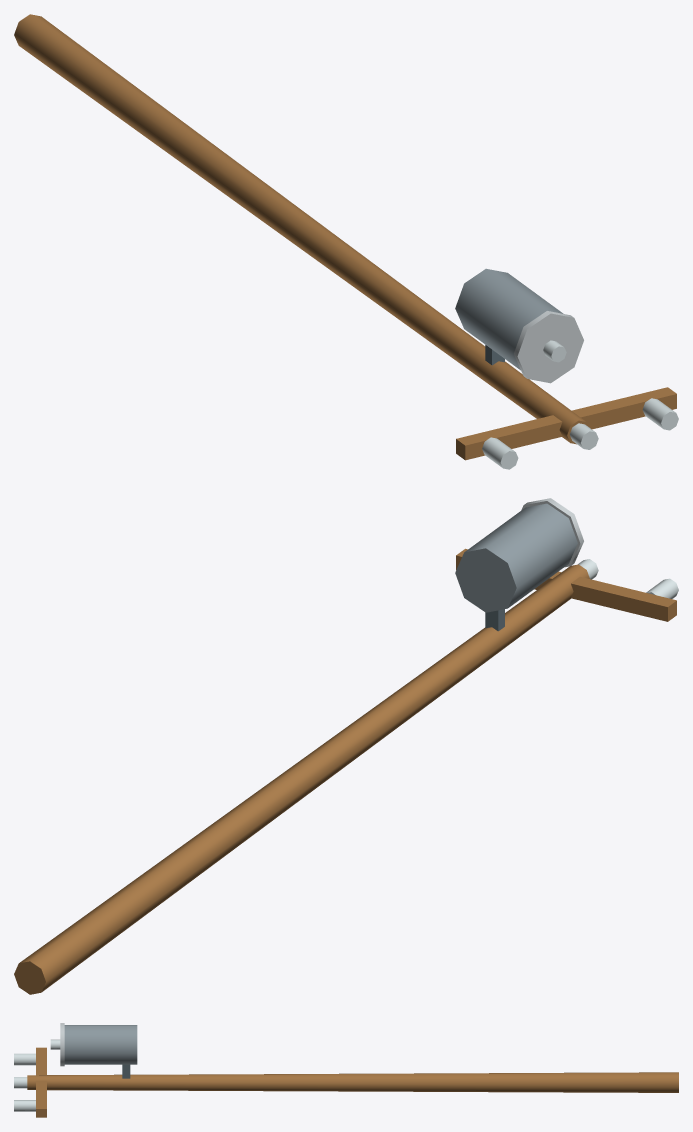
File: pole-transformer.glb
3 views of the same model, one above another, from view 1: azimuth 30°, elevation 25°; view 2: azimuth 150°, elevation 25°; view 3: azimuth 270°, elevation 25° (orthographic). The views are drawn at different scales.
Parts seen in each view (by area): view 1: pole-transformer; view 2: pole-transformer; view 3: pole-transformer.
Boxes of the visible parts, bbox=[...] form: pole-transformer: bbox=[14, 14, 678, 469]; pole-transformer: bbox=[14, 498, 678, 994]; pole-transformer: bbox=[14, 1023, 678, 1117].
Bounding box in the file's own units: 3.3 × 1.72 × 15.1.
